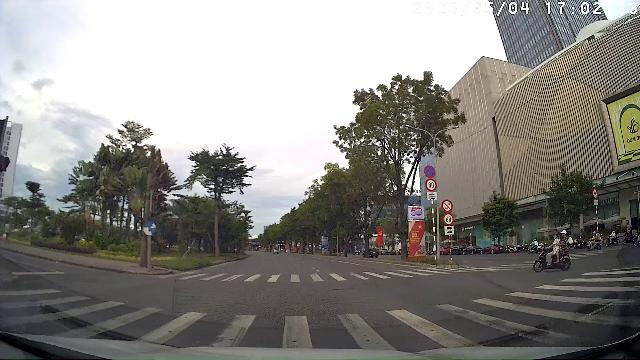127-toc-do-toi-da-60: (444, 213, 454, 225)
127-toc-do-toi-da-80: (425, 179, 437, 191)
130-cam-dung-va-do-xe: (424, 166, 436, 178)
